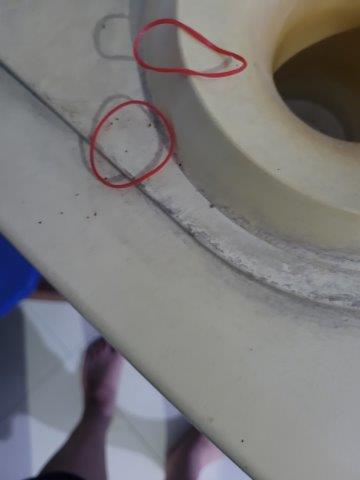karet: (90, 101, 175, 189), (134, 20, 248, 78)
